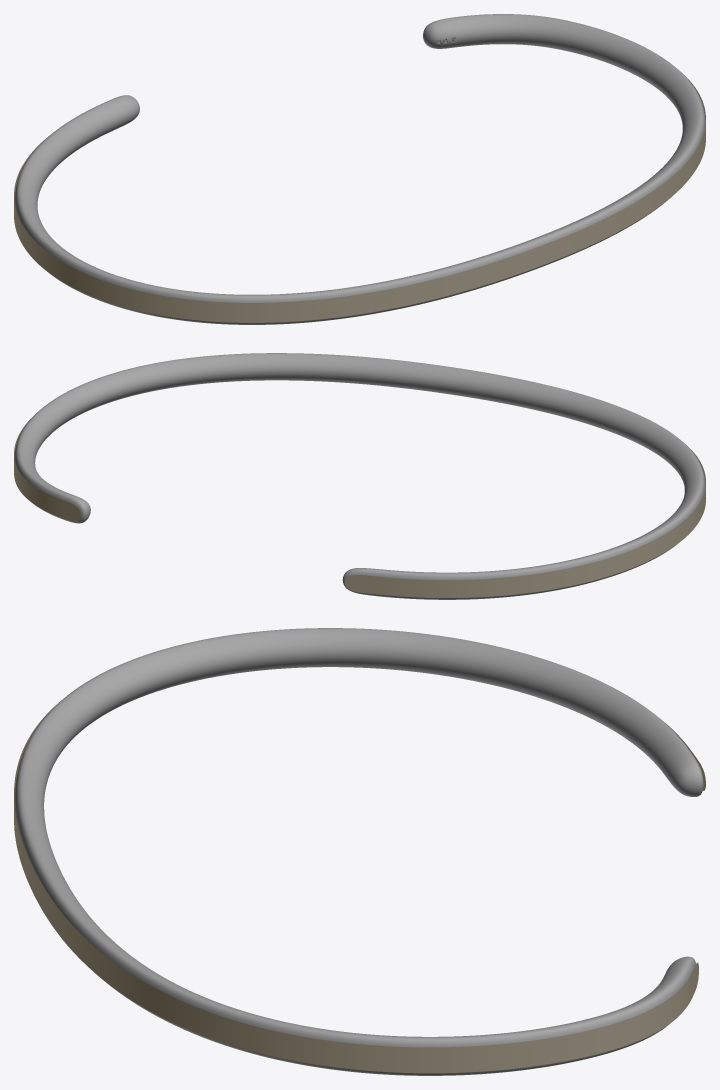
The model's file is bold-silver.glb.
3 renders of one model, top to bottom at view 1: azimuth 30°, elevation 25°; view 2: azimuth 150°, elevation 25°; view 3: azimuth 270°, elevation 25°, orthographic. The views are drawn at different scales.
Visible parts, largest first — view 1: bold-body.002, bpld-omote.002; view 2: bold-body.002, bpld-omote.002; view 3: bold-body.002, bpld-omote.002.
Part boxes in pixels (<box>): bold-body.002: <box>14,14,705,324</box>; bpld-omote.002: <box>14,72,705,322</box>; bold-body.002: <box>14,353,705,599</box>; bpld-omote.002: <box>14,413,705,597</box>; bold-body.002: <box>14,628,703,1075</box>; bpld-omote.002: <box>14,704,705,1073</box>.
Size of the model in its own units: 3.4 by 0.1422 by 2.39.
2 materials, 2 textured.
